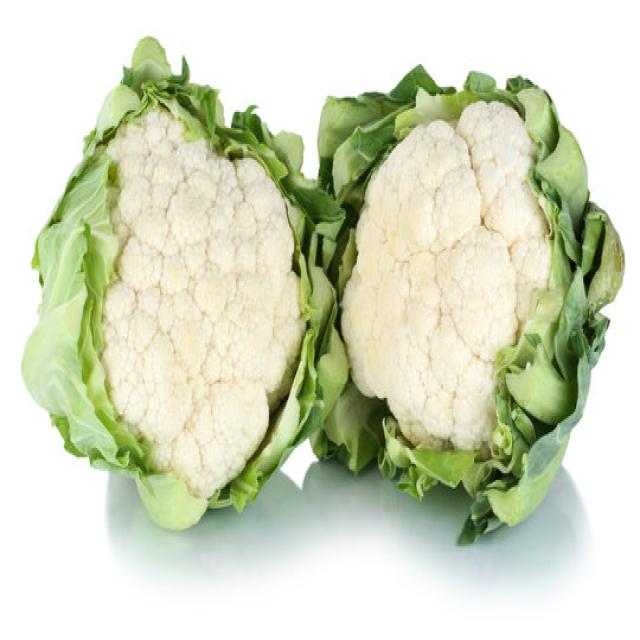Cauliflower: (53, 85, 323, 491), (339, 98, 555, 455)
